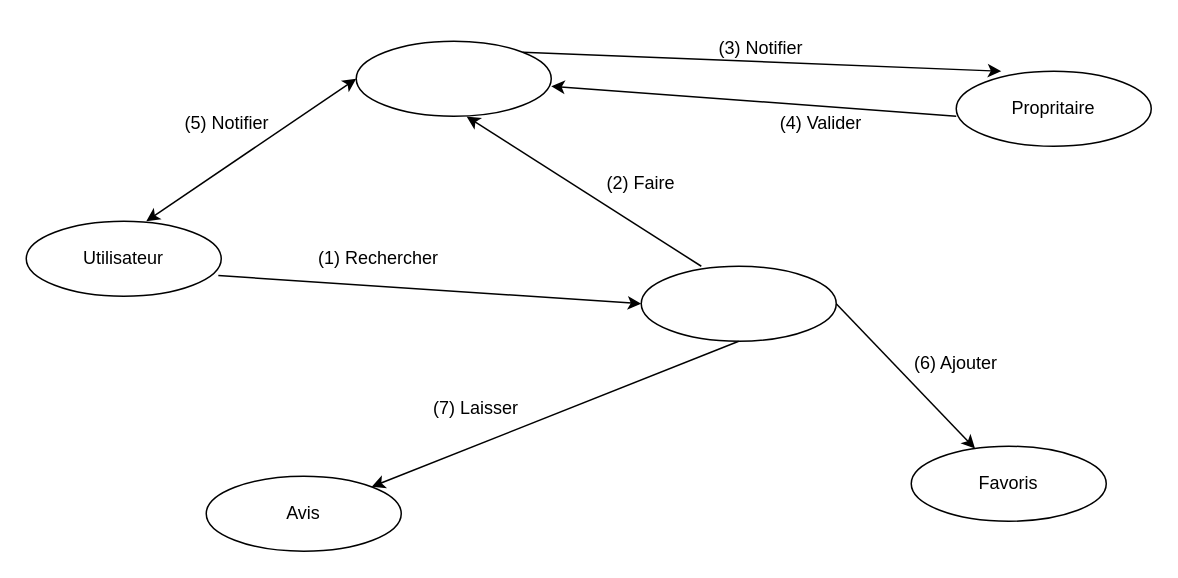
This 1178x578 diagram has some shape labels left out. Here are the shapes that lost their labels. From the top down, the centre of each, then its label:
[453,78]: Reservation
[738,303]: Proprieté
